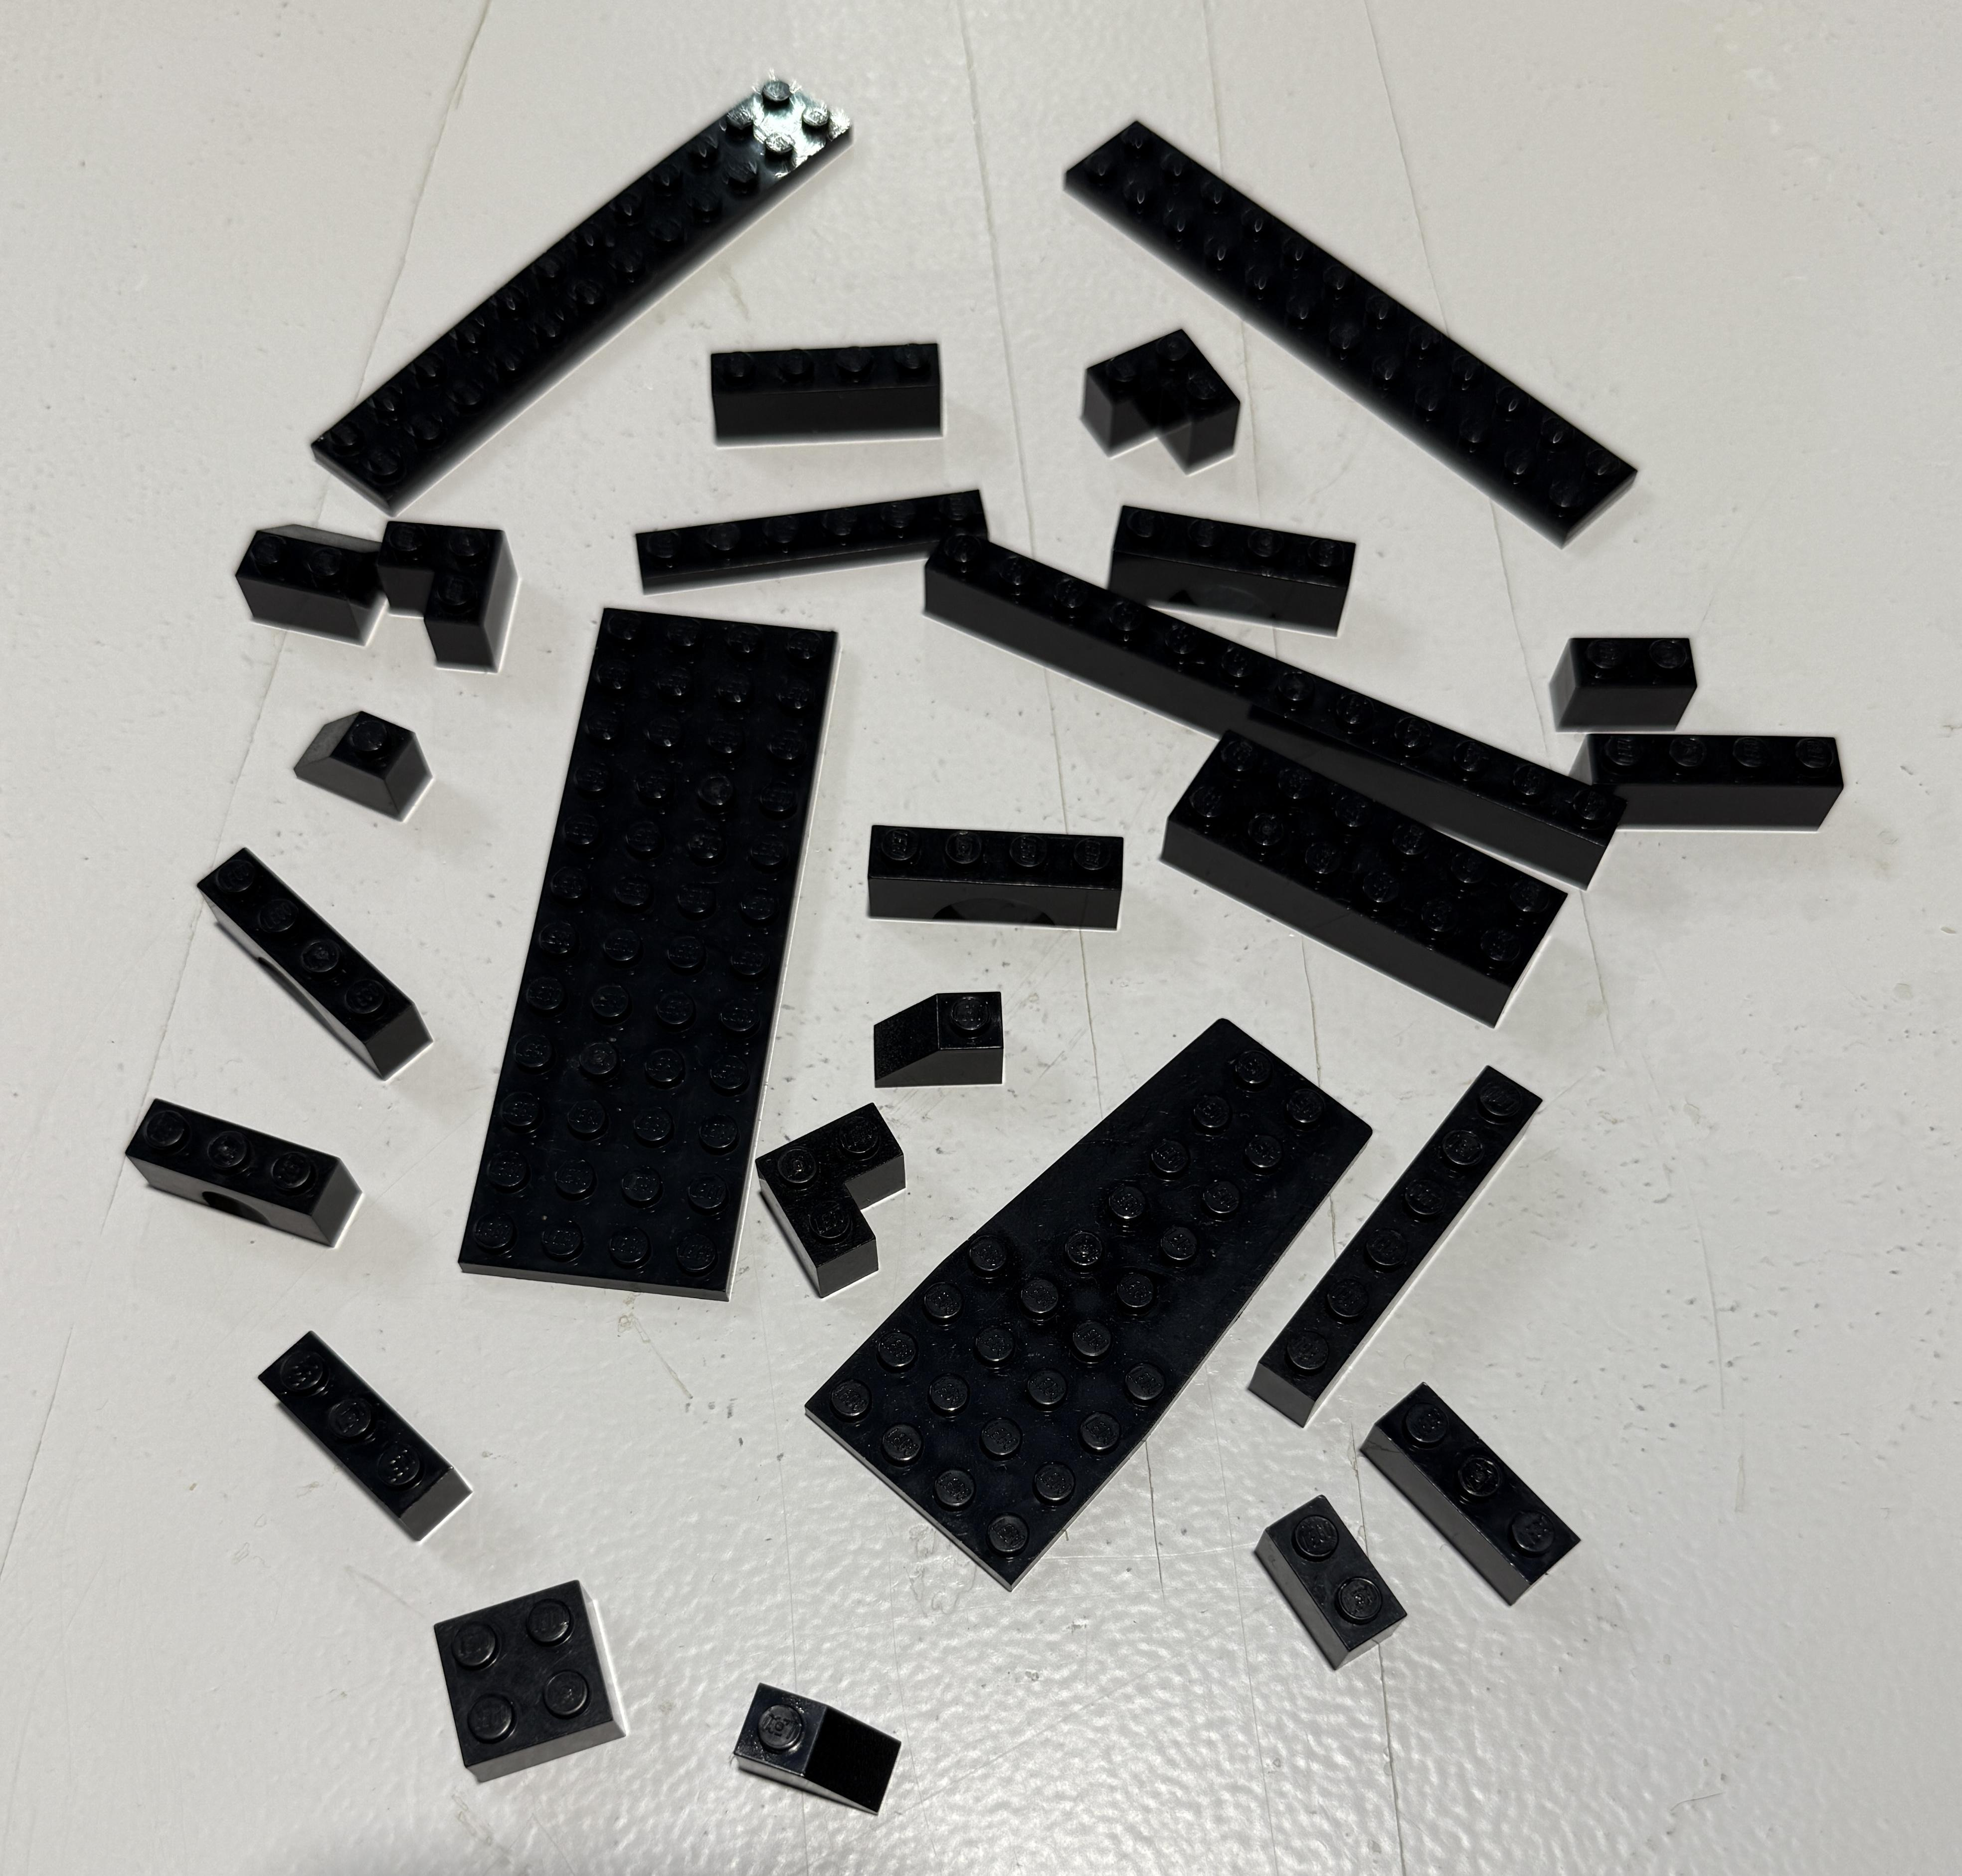brick_1x1: (1237, 1471, 1445, 1704)
brick_1x2: (1526, 601, 1713, 758)
brick_1x3: (1337, 1358, 1622, 1629), (243, 1307, 517, 1561)
brick_1x4: (690, 312, 970, 462)
brick_2x2: (399, 1561, 643, 1804)
